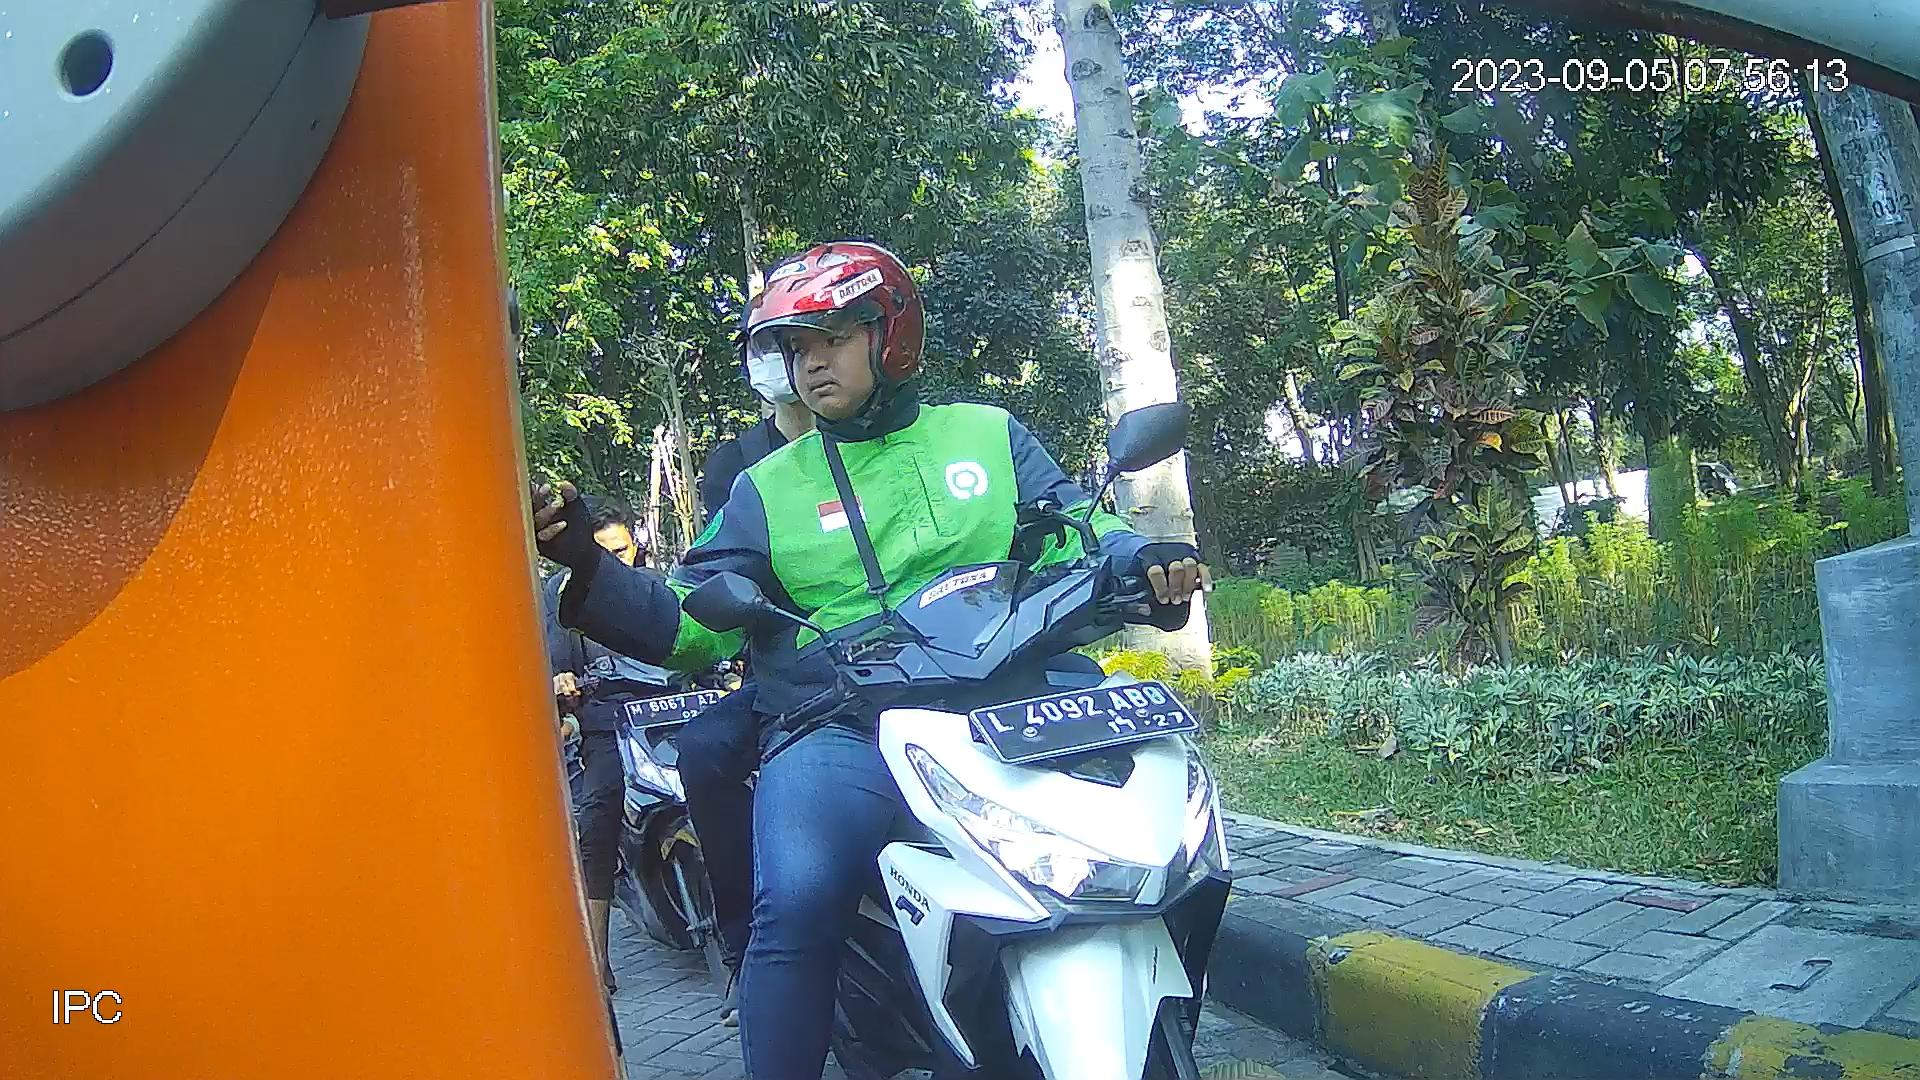plat: (964, 673, 1207, 766)
